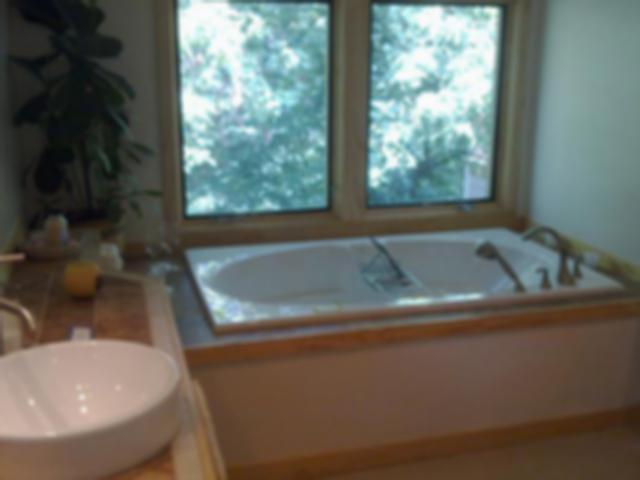Lavamanos: (0, 246, 189, 480)
